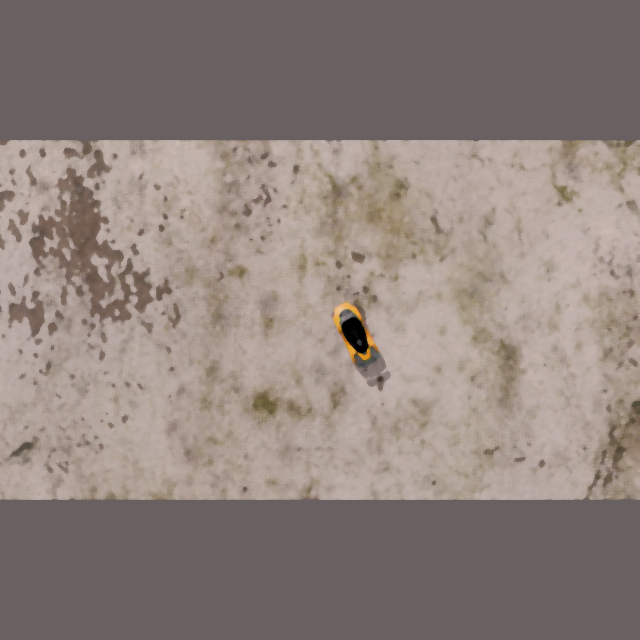car: (326, 297, 383, 372)
